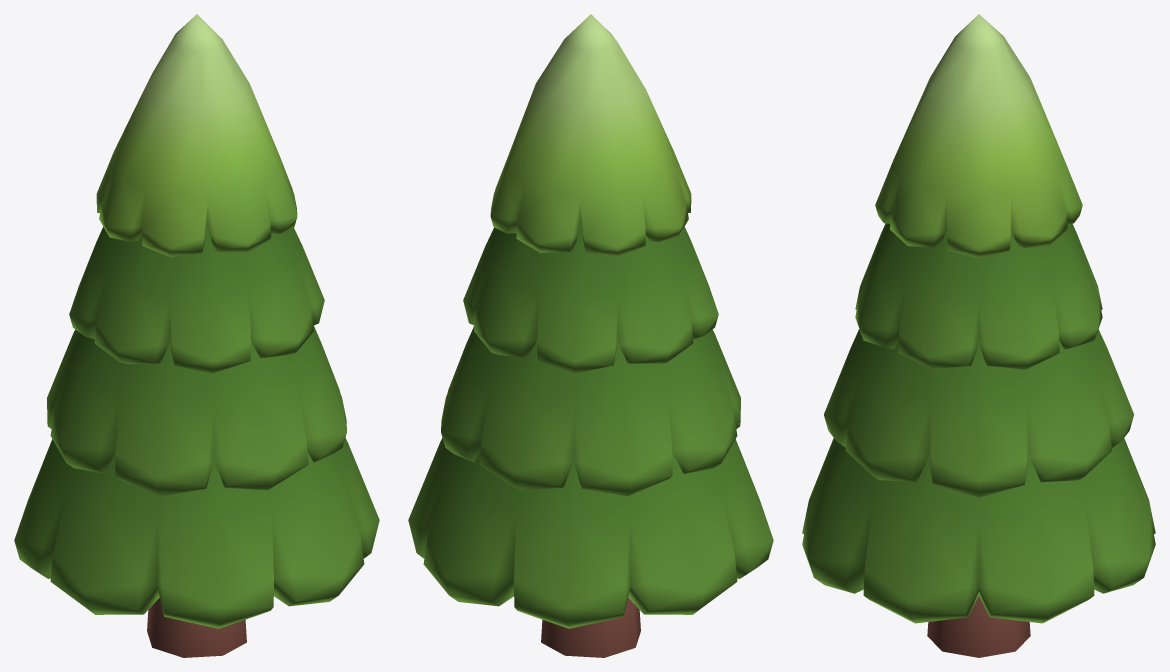
File: Furniture_Plants_23.fbx
The picture shows the model from 3 angles, left to right: view 1: azimuth 30°, elevation 25°; view 2: azimuth 150°, elevation 25°; view 3: azimuth 270°, elevation 25°; orthographic projection.
Visible parts, largest first — view 1: Furniture_Plants_23; view 2: Furniture_Plants_23; view 3: Furniture_Plants_23.
Part boxes in pixels (x1,y1,x2,y2): Furniture_Plants_23: (14, 14, 379, 657); Furniture_Plants_23: (408, 14, 773, 657); Furniture_Plants_23: (802, 14, 1155, 657).
Bounding box in the file's own units: 175 × 340 × 175.
